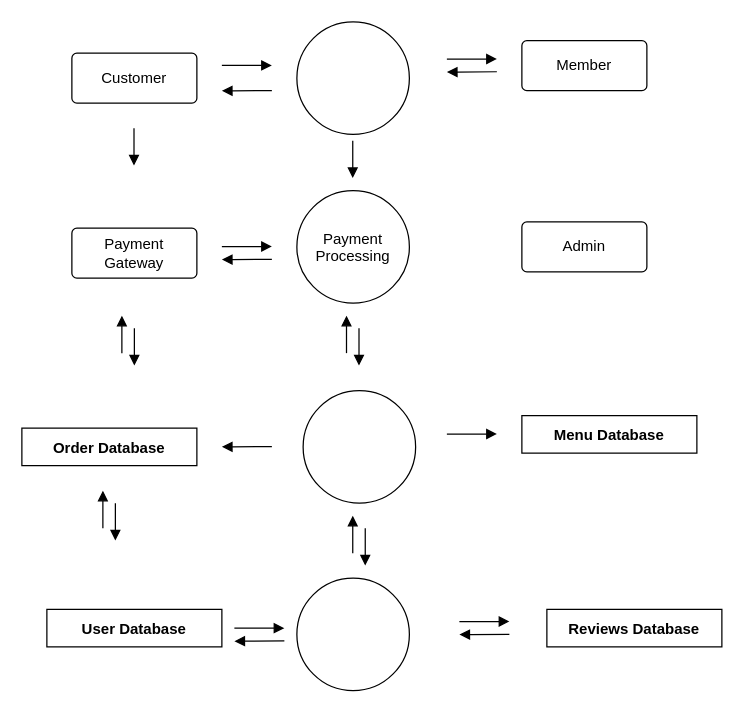
The diagram is 744 pixels wide and 713 high, and some of its shapes have lost their labels. Here are the shapes that lost their labels. From the top down, the centre of each, then its label:
At (352,77): "Order Management".
At (359,446): "Process Orders".
At (352,634): "User Management".
